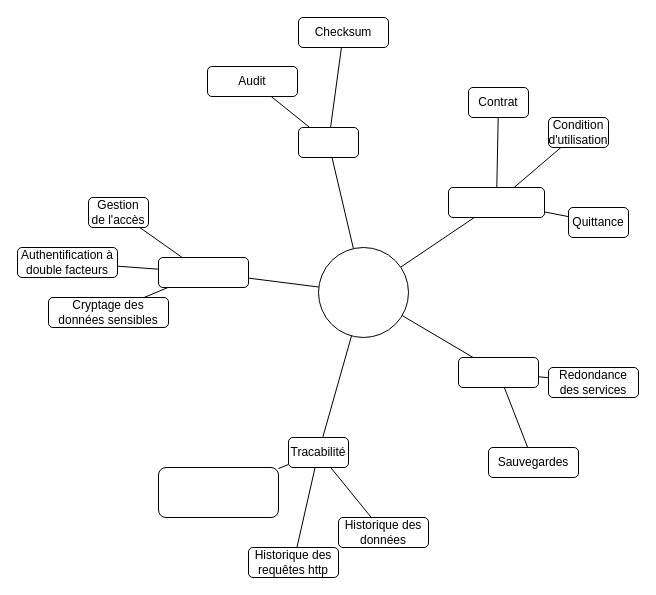
Some shapes in this 656 by 595 pixel diagram are drawn without their labels. Each missing label, with the box of its shape:
Confidentialité: (158, 256, 248, 288)
Disponibilité: (458, 356, 538, 388)
Historique de communications (mail/phone): (158, 466, 278, 518)
Intégrité: (298, 126, 358, 158)
Non répudiation: (448, 186, 544, 218)
Objectifs de la sécurité informatique: (318, 246, 408, 338)
